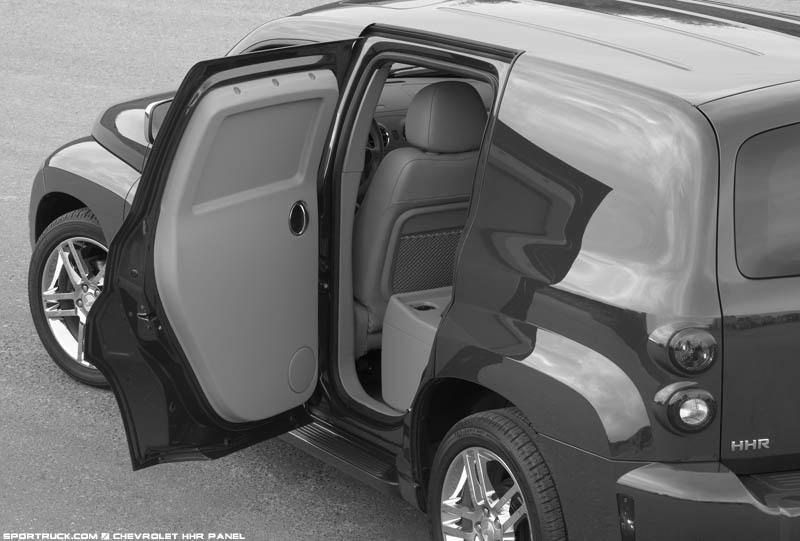car: (28, 2, 799, 541)
